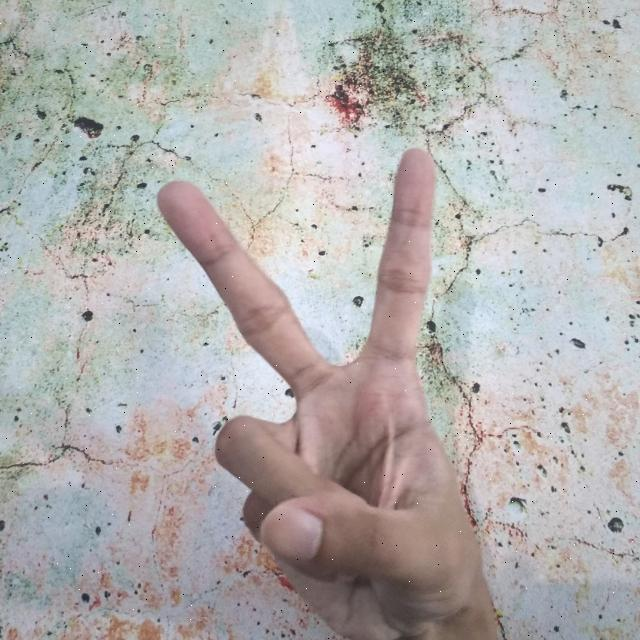V: (150, 143, 510, 640)
